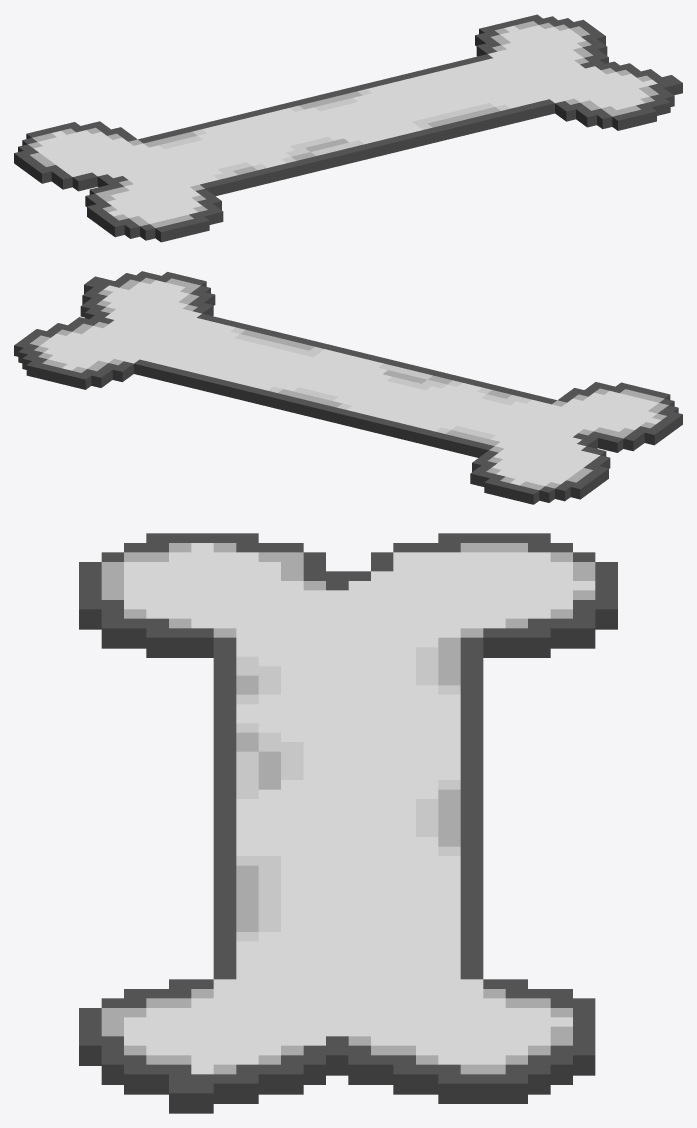
Rendered from bone.obj.
3 renders of one model, top to bottom at view 1: azimuth 30°, elevation 25°; view 2: azimuth 150°, elevation 25°; view 3: azimuth 270°, elevation 25°, orthographic. The views are drawn at different scales.
Visible parts, largest first — view 1: bone; view 2: bone; view 3: bone.
Part boxes in pixels (box(x1,y1,x2,y2)): bone: box(14, 14, 682, 242); bone: box(14, 271, 682, 504); bone: box(79, 533, 617, 1113).
Bounding box in the file's own units: 59 × 1 × 24.
1 material, 1 textured.
